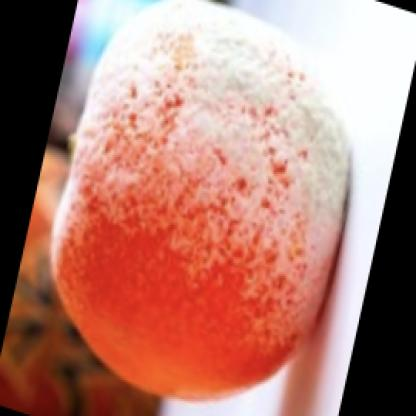rotten: (53, 1, 353, 403)
